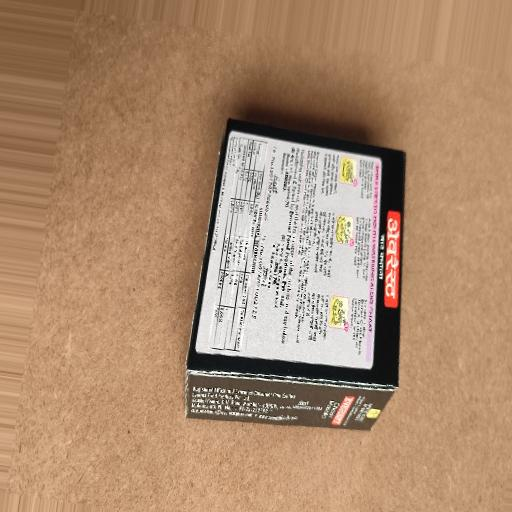Everest Chaat Masala: (155, 93, 431, 451)
